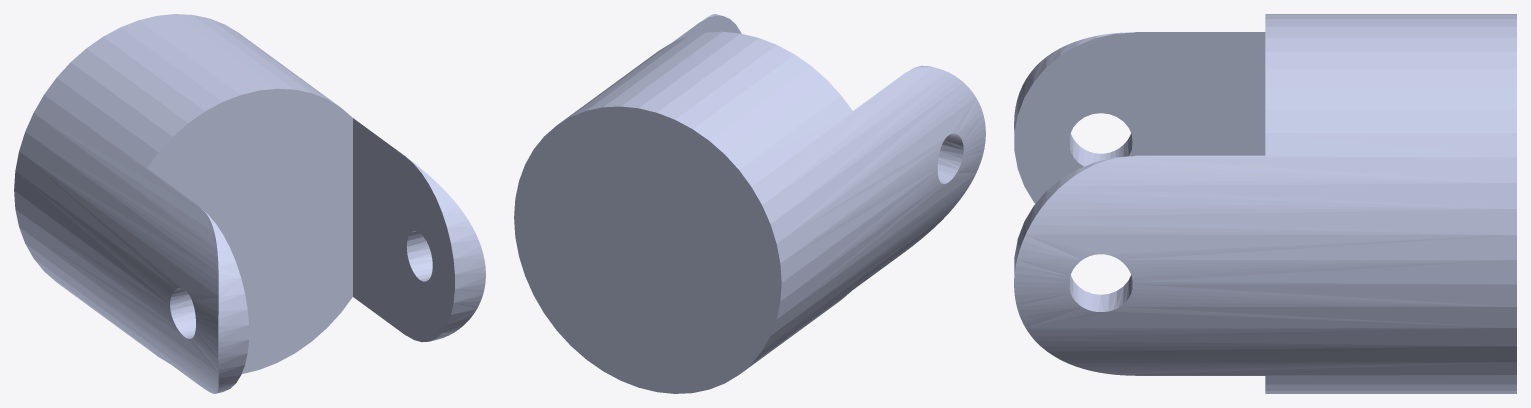
File: tool_wrist_link.obj
The picture shows the model from 3 angles, left to right: view 1: azimuth 30°, elevation 25°; view 2: azimuth 150°, elevation 25°; view 3: azimuth 270°, elevation 25°; orthographic projection. The views are drawn at different scales.
Visible parts, largest first — view 1: ActorShape0_0-Mesh; view 2: ActorShape0_0-Mesh; view 3: ActorShape0_0-Mesh.
Part boxes in pixels (x1,y1,x2,y2): ActorShape0_0-Mesh: (14,14,485,393); ActorShape0_0-Mesh: (514,14,985,393); ActorShape0_0-Mesh: (1014,14,1516,393).
Bounding box in the file's own units: 0.00832 × 0.0083 × 0.011.
